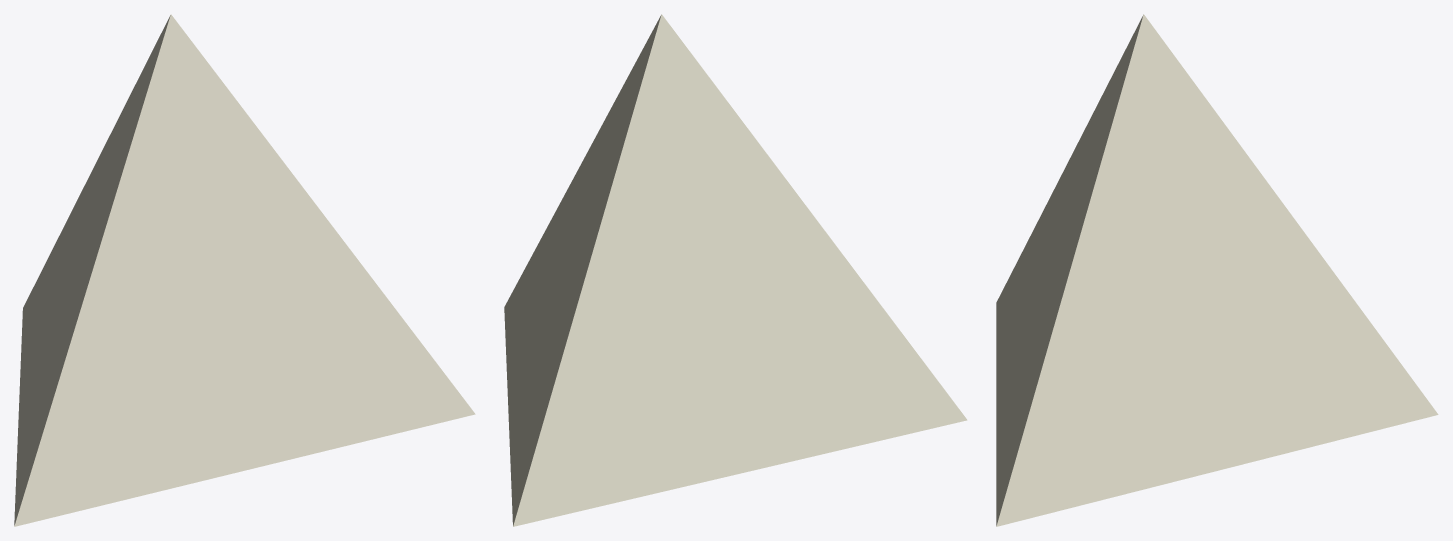
The model's file is Shape_TriPyramid.glb.
3 views of the same model, side by side, from view 1: azimuth 30°, elevation 25°; view 2: azimuth 150°, elevation 25°; view 3: azimuth 270°, elevation 25° (orthographic).
Parts seen in each view (by area): view 1: Shape_TriPyramid; view 2: Shape_TriPyramid; view 3: Shape_TriPyramid.
Boxes of the visible parts, x1,y1,x2,y2 form: Shape_TriPyramid: [14, 14, 475, 526]; Shape_TriPyramid: [504, 14, 967, 526]; Shape_TriPyramid: [996, 14, 1438, 526].
Bounding box in the file's own units: 1.2 × 1 × 1.
